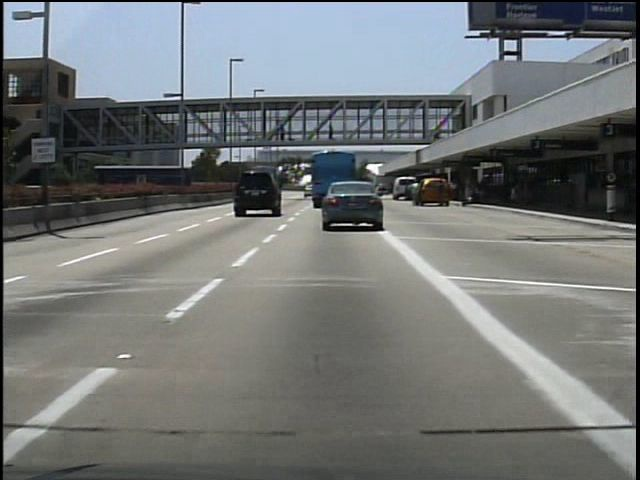person: (432, 177, 449, 211), (405, 179, 424, 209), (326, 122, 339, 148), (278, 119, 292, 141)
